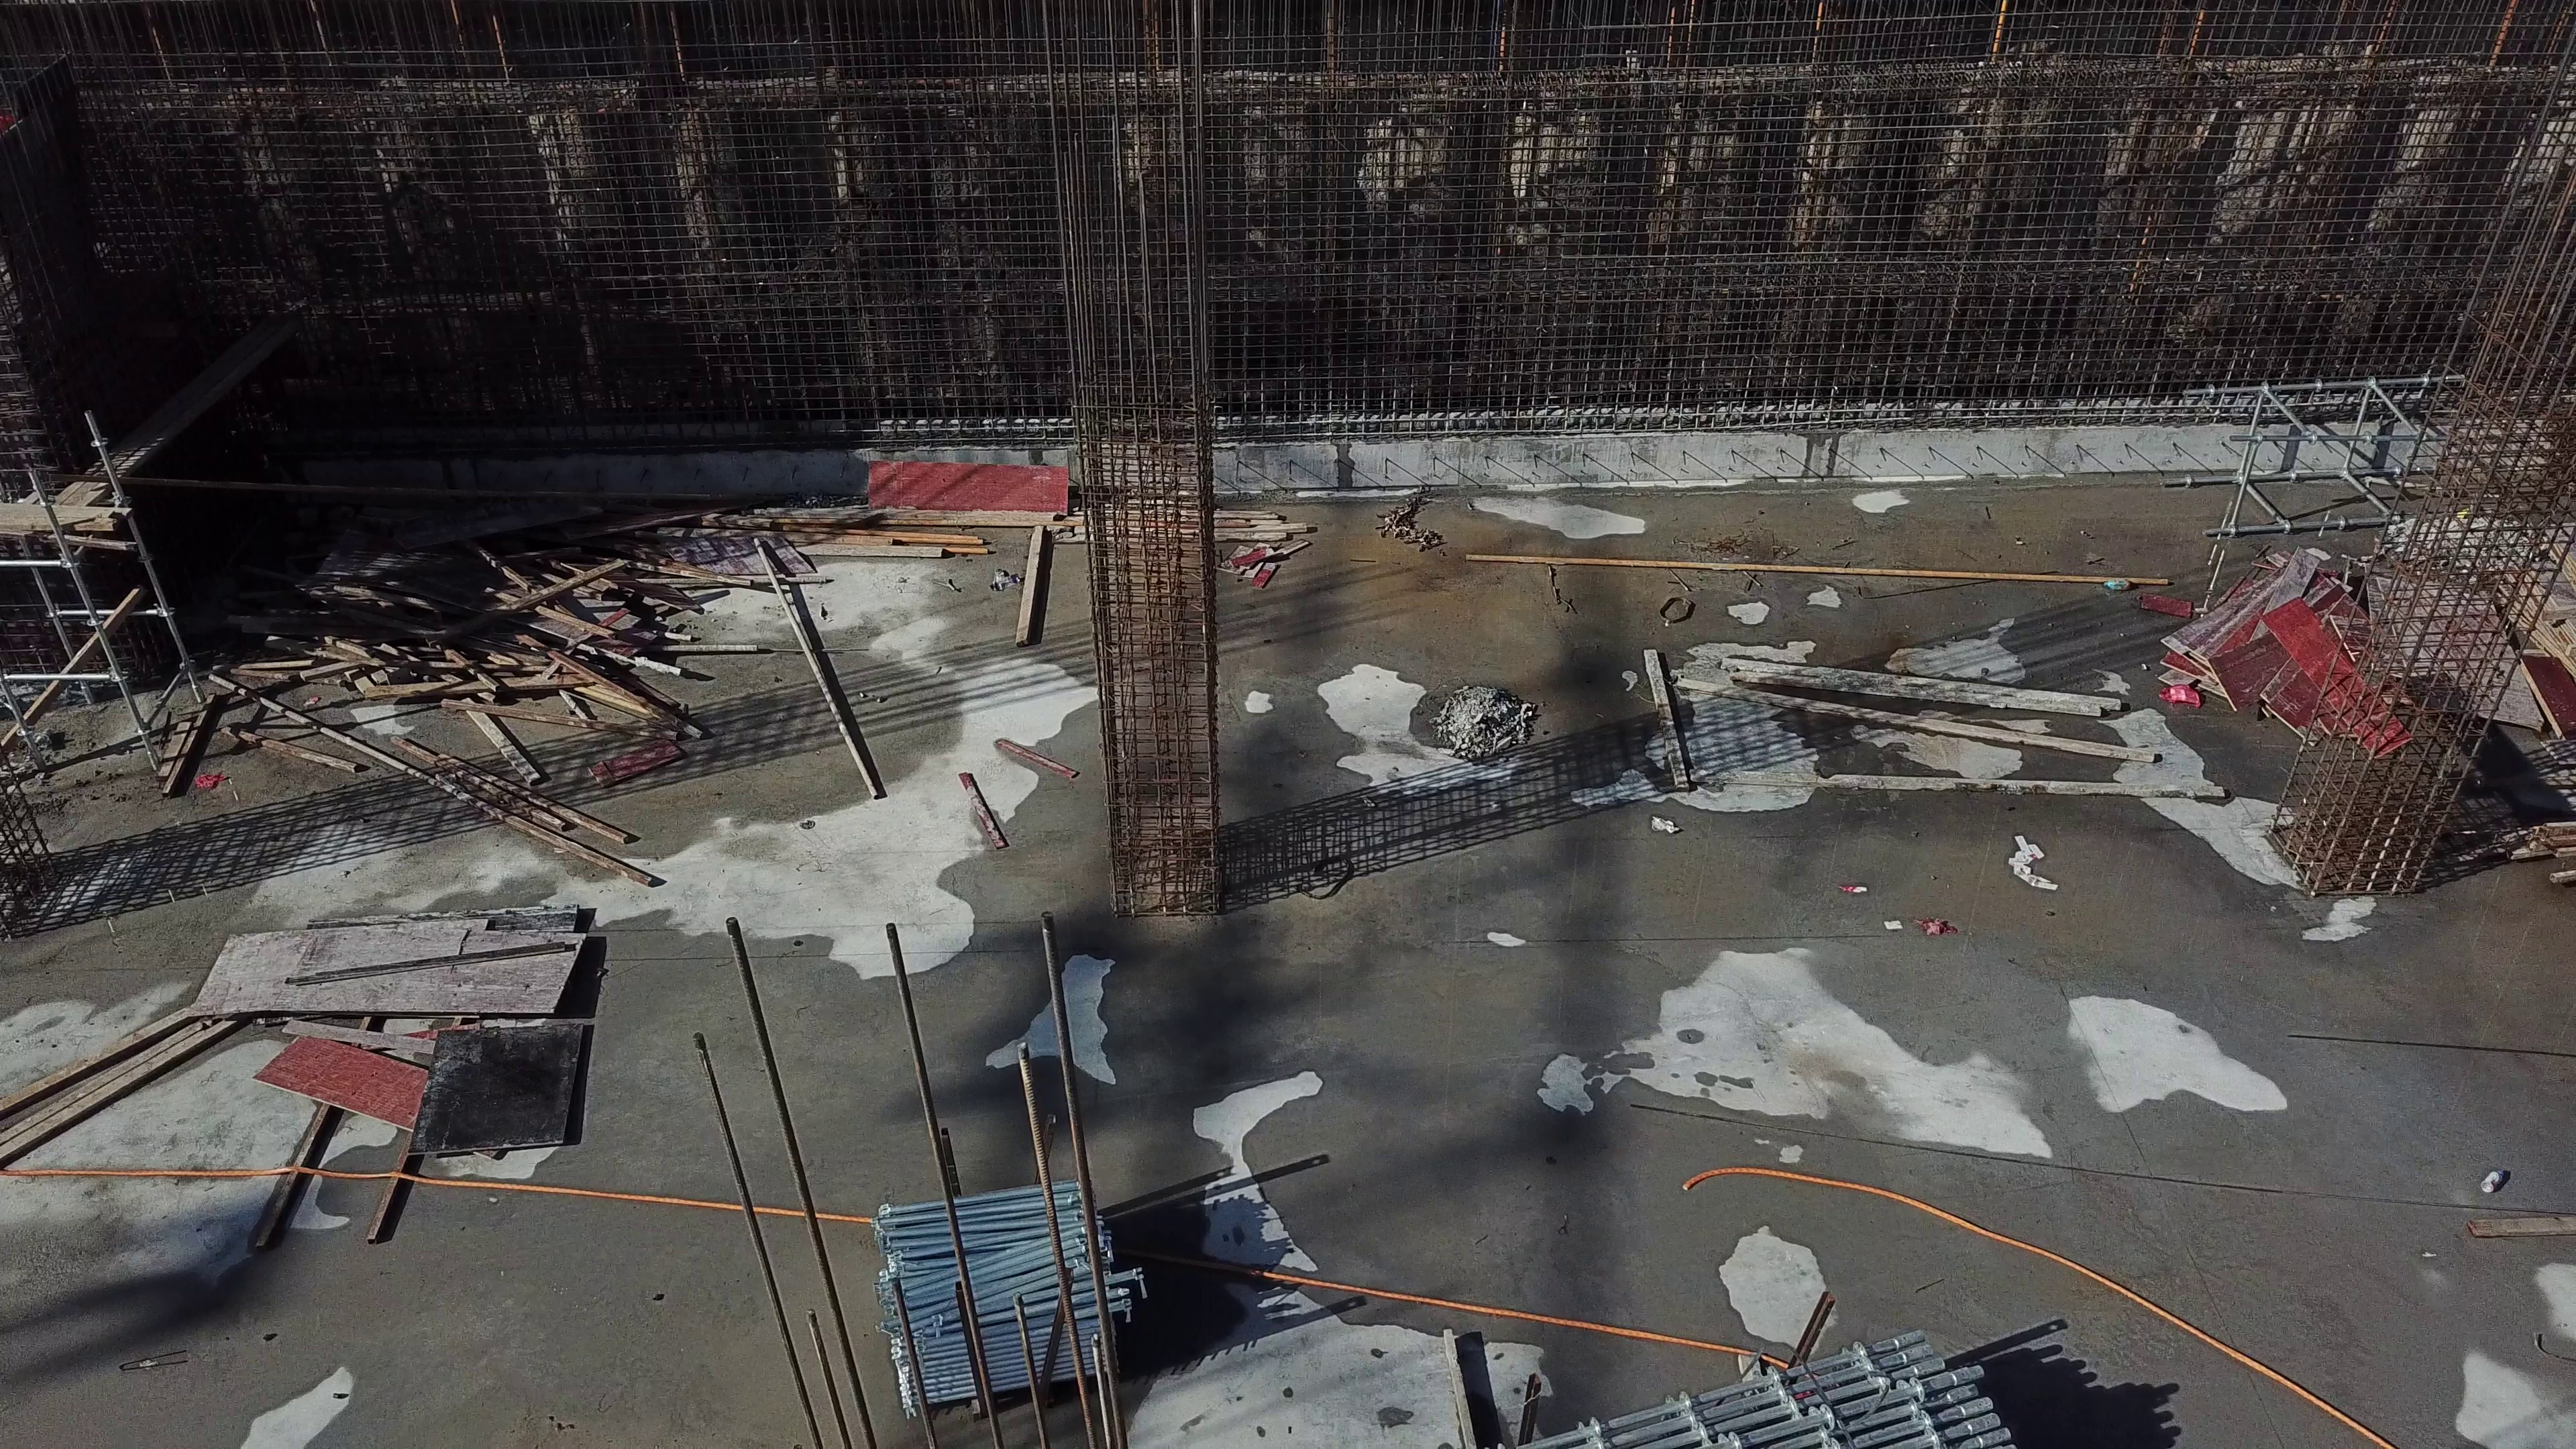board: (2146, 540, 2397, 745)
scaffold: (1499, 1316, 2056, 1449), (879, 1187, 1146, 1408)
